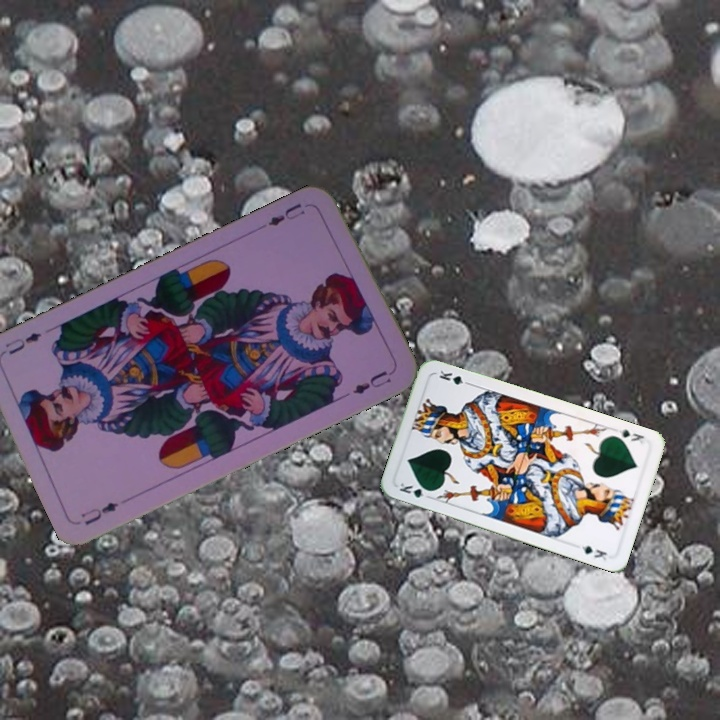EU: (263, 199, 308, 229), (77, 498, 122, 528)
GK: (395, 478, 435, 501), (611, 425, 649, 447)
